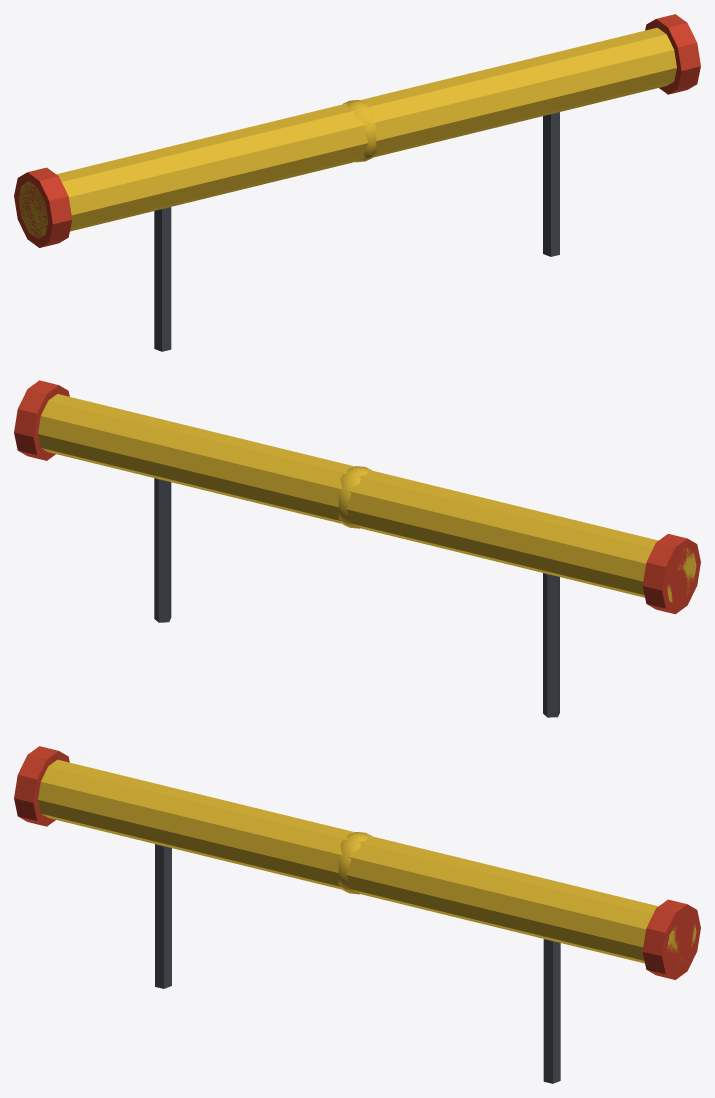
File: PipeG_Straight.fbx
3 renders of one model, top to bottom at view 1: azimuth 30°, elevation 25°; view 2: azimuth 150°, elevation 25°; view 3: azimuth 330°, elevation 25°, orthographic.
Parts seen in each view (by area): view 1: PipeG_Straight_Body; view 2: PipeG_Straight_Body; view 3: PipeG_Straight_Body.
Part boxes in pixels (left/top/right/bottom): PipeG_Straight_Body: left=14, top=14, right=700, bottom=351; PipeG_Straight_Body: left=14, top=380, right=700, bottom=717; PipeG_Straight_Body: left=14, top=746, right=700, bottom=1083.
Size of the model in its own units: 1 by 0.2995 by 0.104.
